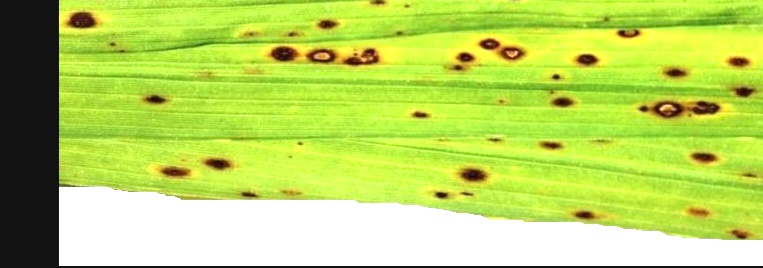Bacterial_Leaf_Blight: (642, 85, 752, 120), (667, 134, 732, 170), (545, 81, 594, 122), (546, 202, 621, 225), (239, 182, 317, 204), (677, 194, 724, 229), (150, 150, 199, 183), (607, 11, 654, 45), (564, 41, 606, 76), (65, 2, 104, 38), (349, 42, 388, 77), (260, 39, 304, 69), (443, 50, 487, 80), (198, 140, 236, 171), (499, 41, 531, 75), (532, 127, 567, 158), (395, 106, 449, 126), (717, 215, 754, 242), (656, 60, 700, 82), (142, 83, 174, 113), (305, 40, 340, 66), (726, 46, 757, 73), (312, 16, 346, 40), (453, 166, 498, 184), (474, 30, 502, 51), (432, 190, 457, 210), (368, 0, 392, 18)
